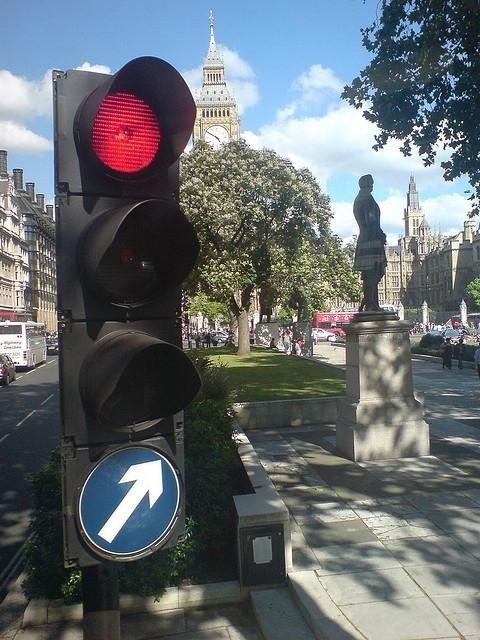bus: (0, 319, 46, 368), (316, 310, 358, 336)
car: (0, 353, 15, 387), (313, 328, 336, 341), (213, 332, 230, 346), (46, 342, 60, 354), (430, 331, 443, 336)
